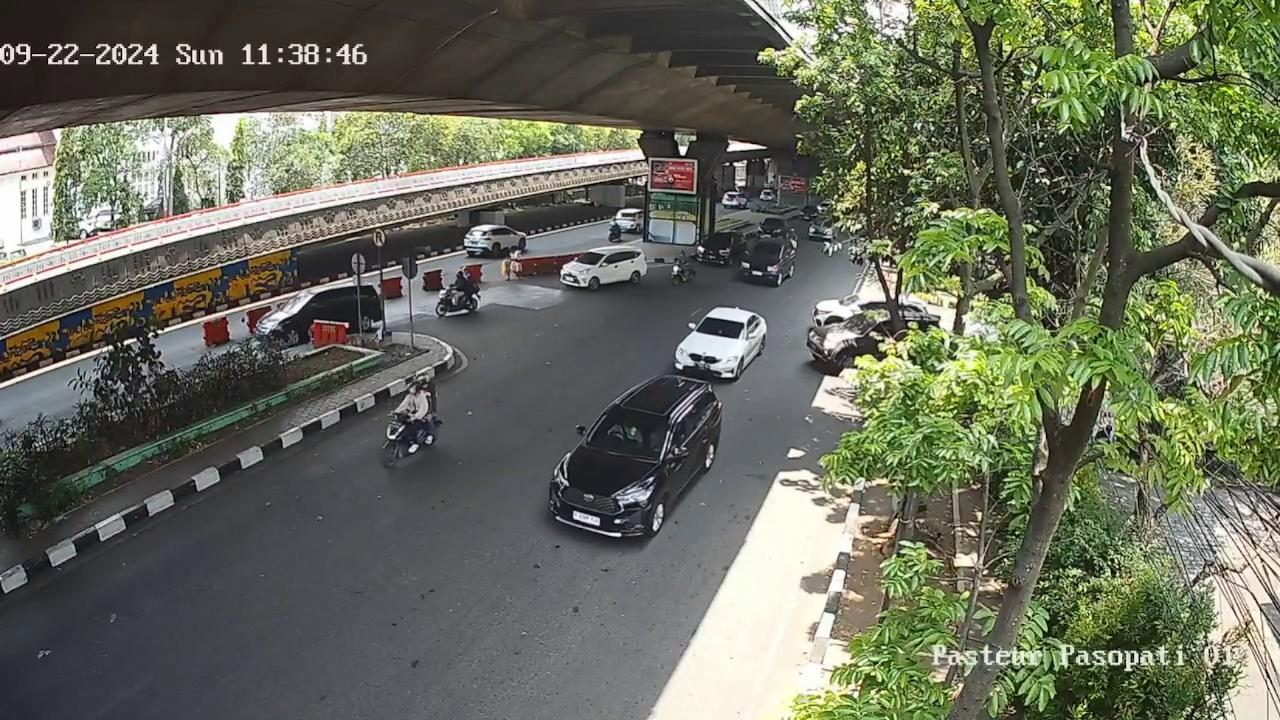pakai: (608, 419, 647, 448)
windshield: (587, 406, 672, 459), (696, 316, 743, 341), (751, 244, 781, 258)
